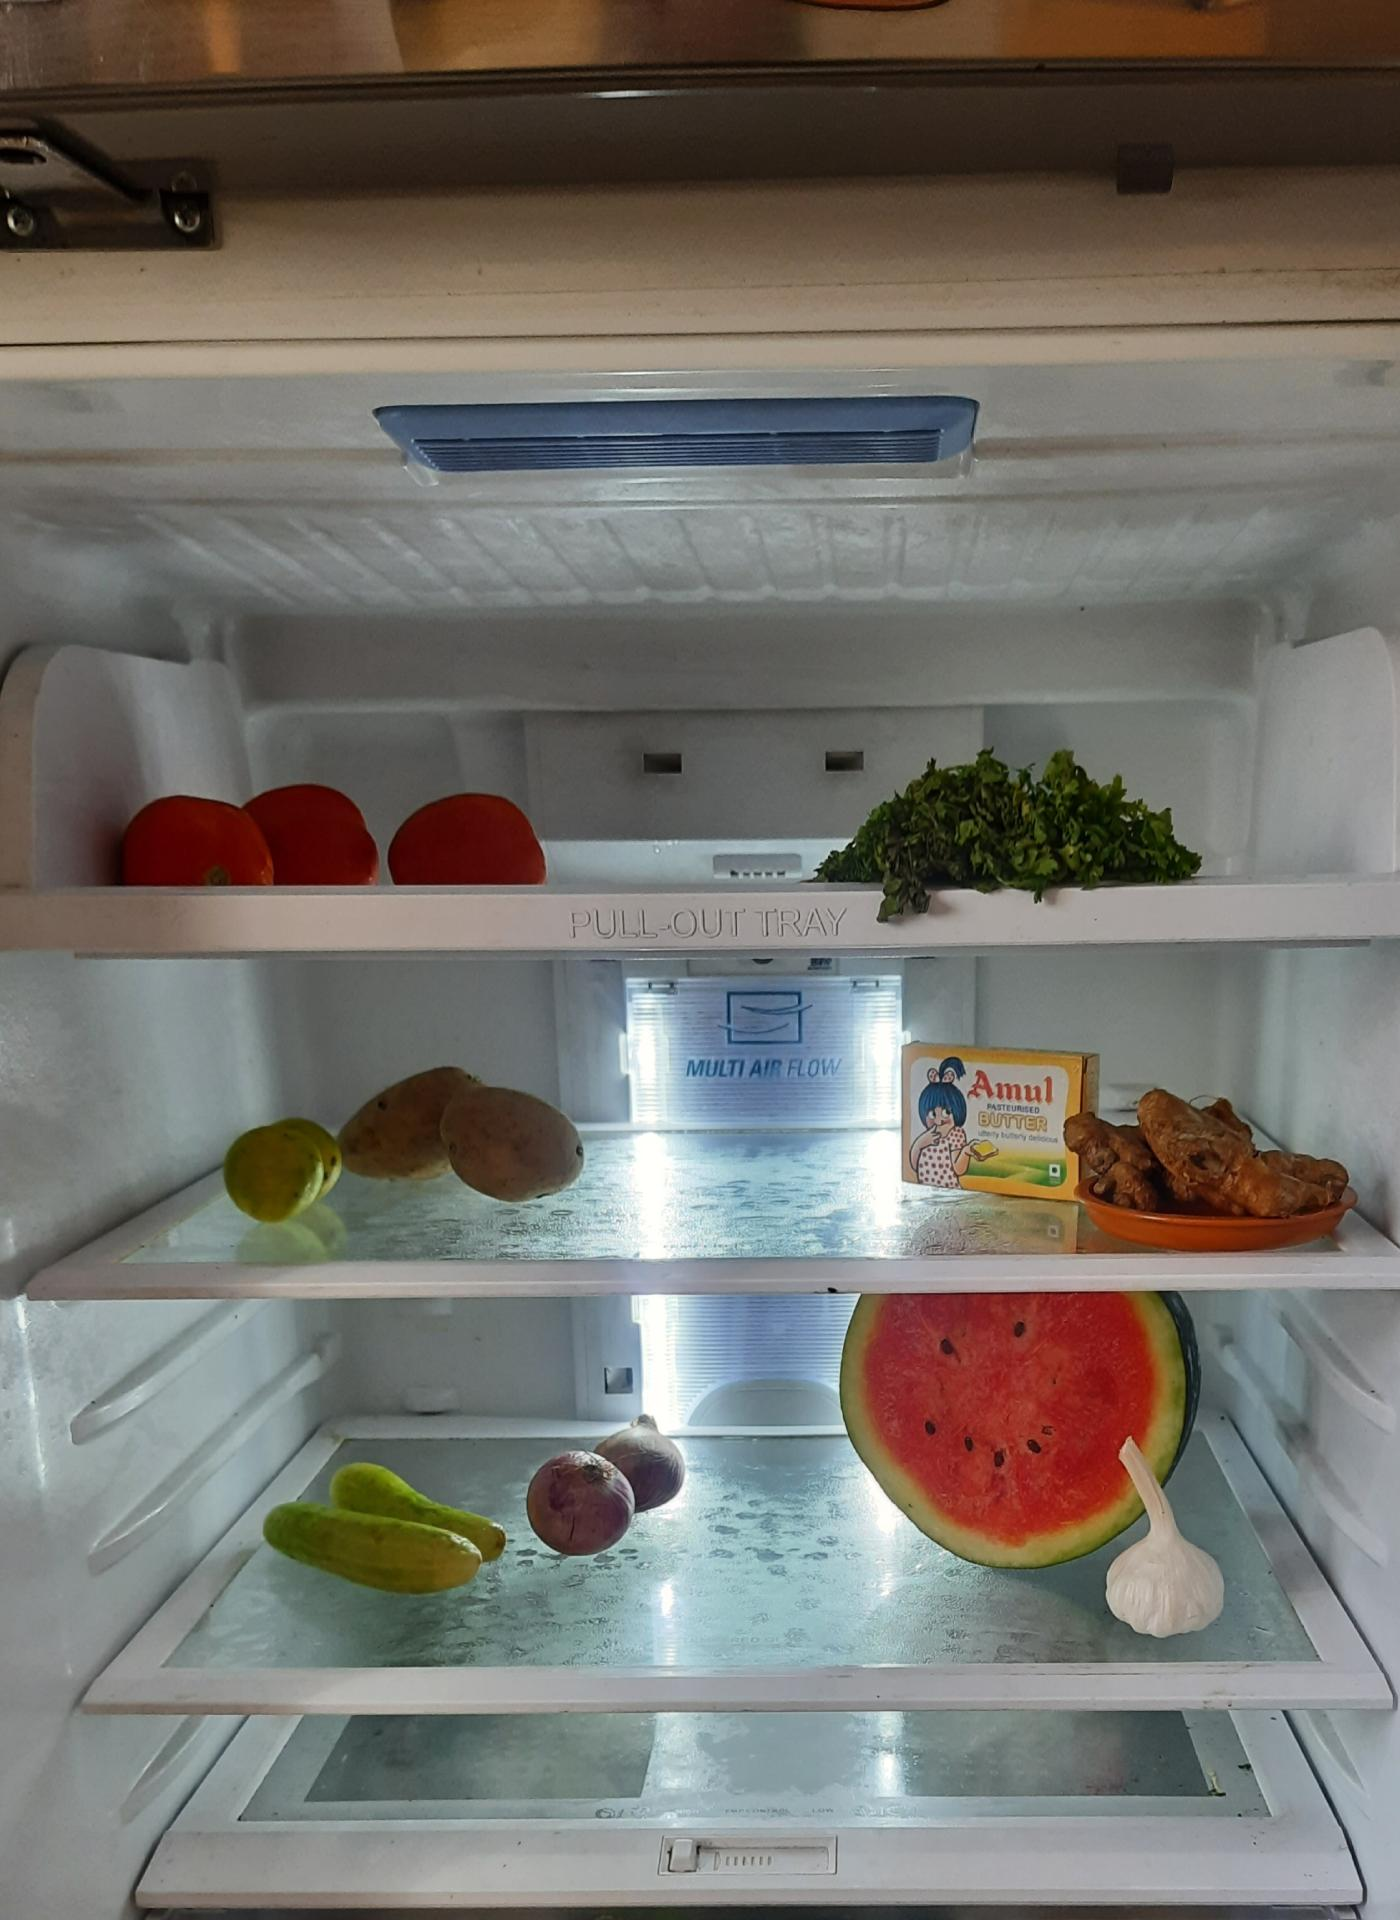butter: (899, 1045, 1082, 1194)
coriander: (816, 745, 1190, 902)
cucumber: (256, 1455, 516, 1595)
garlic: (1108, 1452, 1223, 1643)
ginger: (1078, 1090, 1351, 1218)
lemon: (227, 1108, 347, 1221)
onion: (504, 1374, 690, 1552)
potato: (361, 1040, 626, 1231)
tomato: (121, 774, 547, 885)
watermelon: (839, 1303, 1175, 1574)
